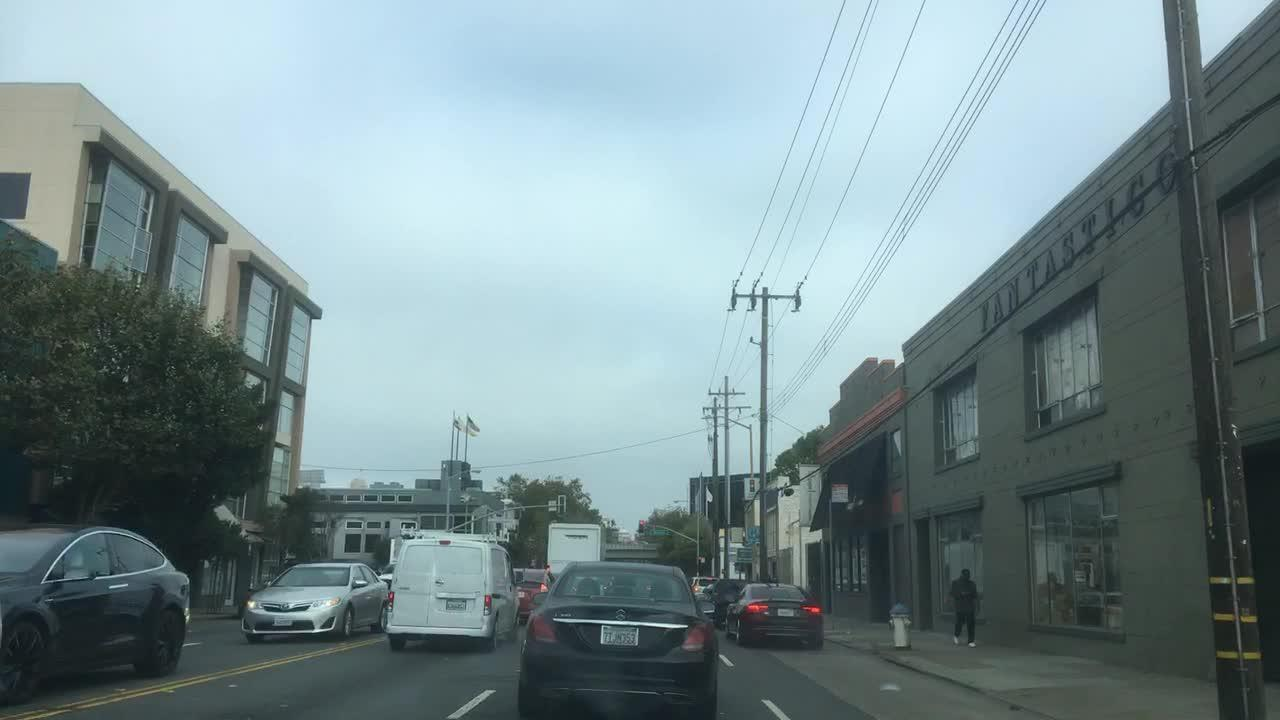Citroen: (615, 606, 627, 623)
